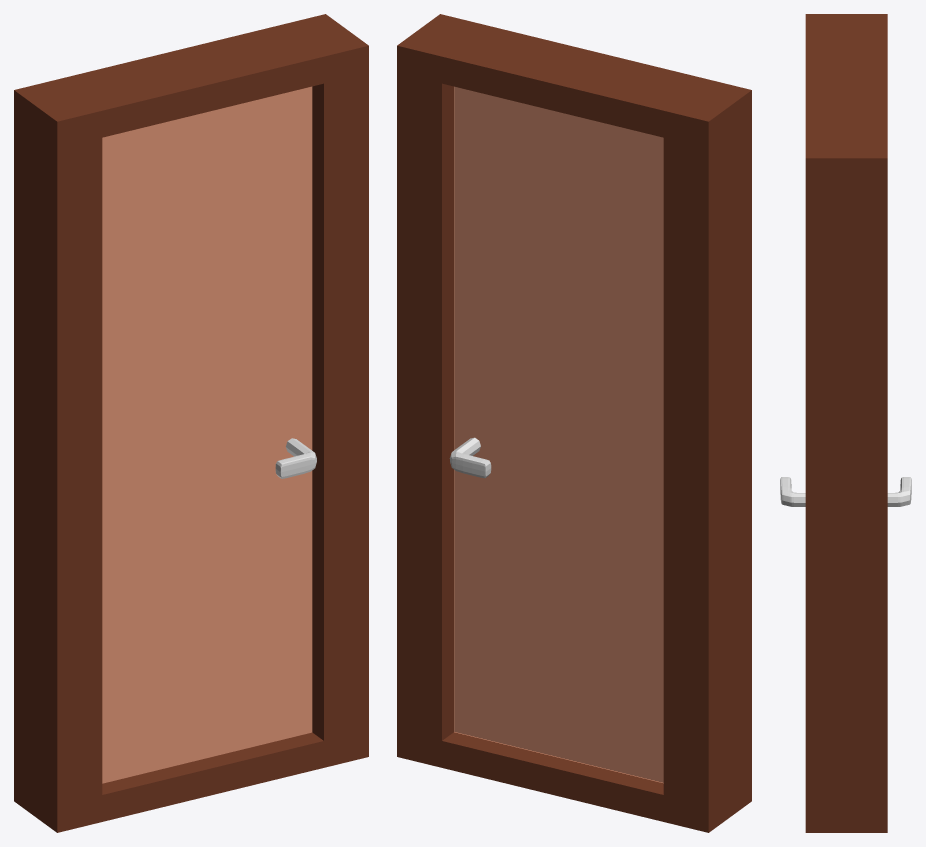
Rendered from door_asset.dae.
3 views of the same model, side by side, from view 1: azimuth 30°, elevation 25°; view 2: azimuth 150°, elevation 25°; view 3: azimuth 270°, elevation 25° (orthographic). The views are drawn at different scales.
Parts seen in each view (by area): view 1: Door.003, Door.002, Cube.004; view 2: Door.003, Door.002, Cube.004; view 3: Door.002, Cube.004.
Boxes of the visible parts, x1,y1,x2,y2 form: Door.003: (102, 86, 312, 783); Door.002: (14, 14, 368, 832); Cube.004: (275, 438, 316, 478); Door.003: (454, 86, 663, 782); Door.002: (397, 14, 751, 832); Cube.004: (449, 437, 491, 478); Door.002: (805, 14, 887, 832); Cube.004: (780, 477, 911, 506).
Bounding box in the file's own units: 0.9222 × 0.3547 × 2.01.
